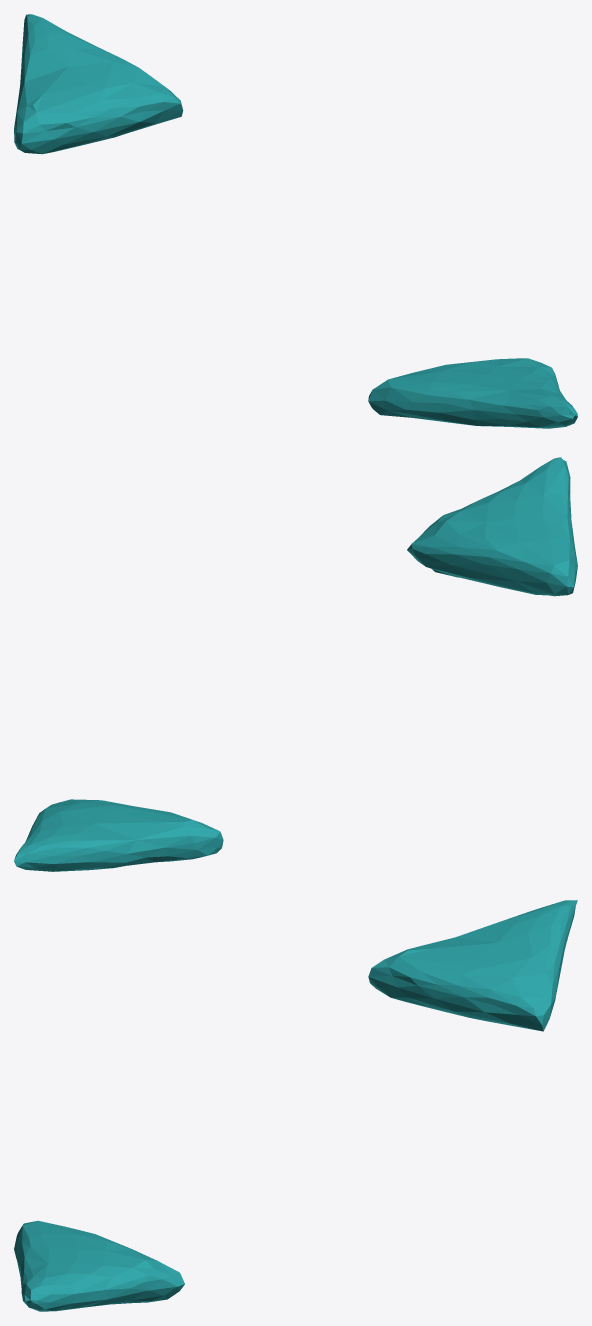
3 views of the same model, one above another, from view 1: azimuth 30°, elevation 25°; view 2: azimuth 150°, elevation 25°; view 3: azimuth 330°, elevation 25° (orthographic).
Parts seen in each view (by area): view 1: 1046.obj; view 2: 1046.obj; view 3: 1046.obj.
Part boxes in pixels (x1,y1,x2,y2): 1046.obj: (14, 14, 577, 428); 1046.obj: (14, 457, 577, 871); 1046.obj: (14, 900, 577, 1311).
Bounding box in the file's own units: 751 × 260 × 4178.
